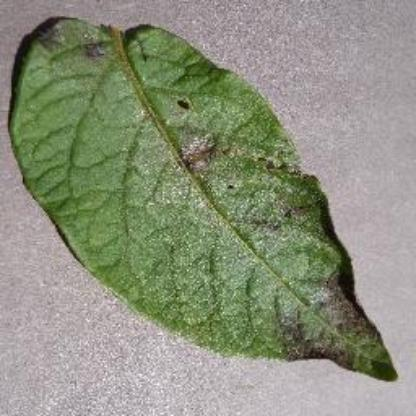Late-Blight: (7, 15, 396, 390)
